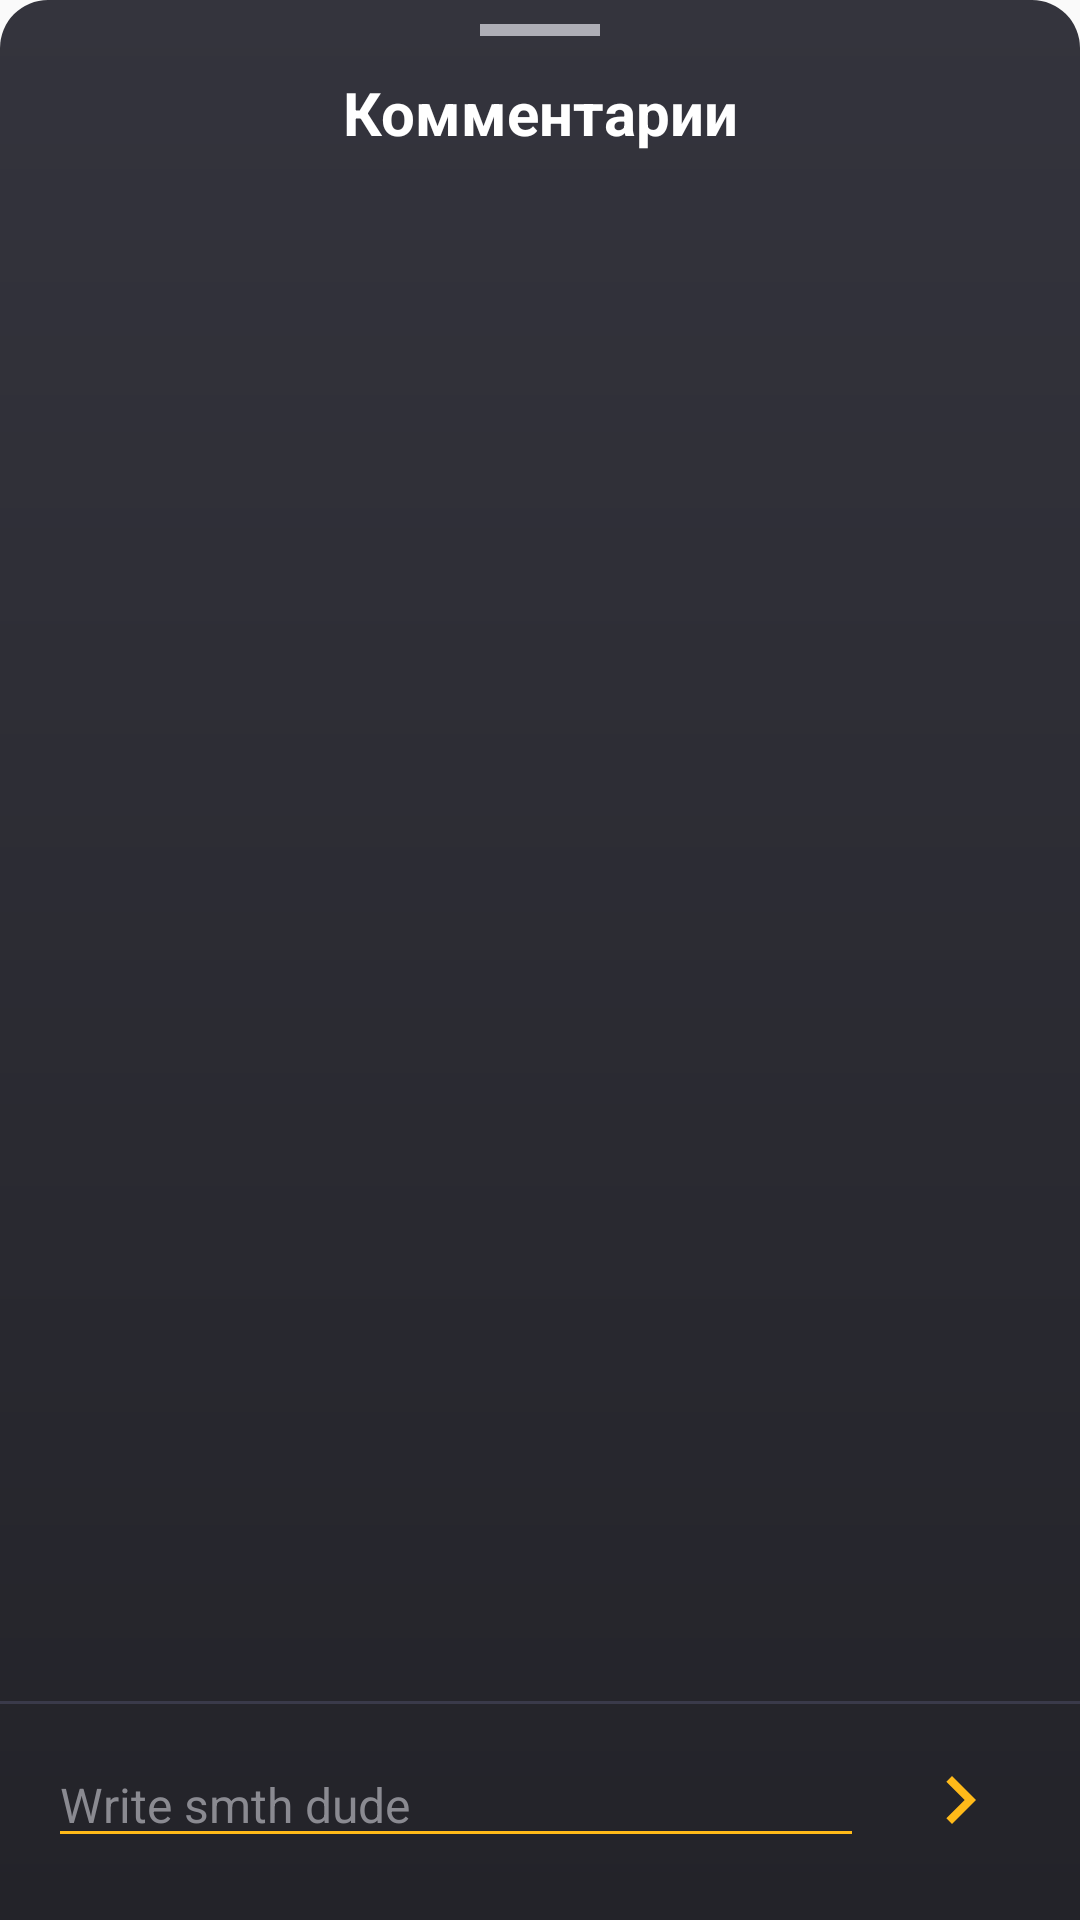

Where icons sit on this 1080px×1920px app screen, as (x1, y1, x2, y2):
Snd dis fing: (946, 1776, 976, 1824)
